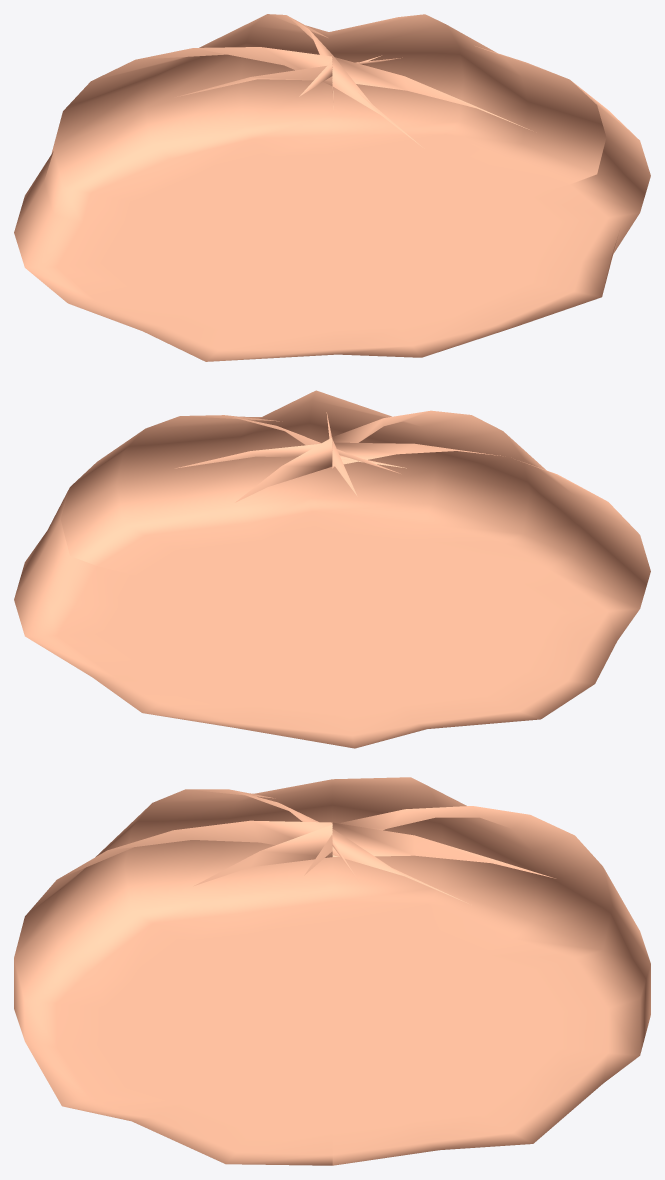
Rendered from seashell.glb.
3 renders of one model, top to bottom at view 1: azimuth 30°, elevation 25°; view 2: azimuth 150°, elevation 25°; view 3: azimuth 270°, elevation 25°, orthographic. The views are drawn at different scales.
Visible parts, largest first — view 1: SeashellProp; view 2: SeashellProp; view 3: SeashellProp.
Boxes of the visible parts, box(x1,y1,x2,y2) form: SeashellProp: box(14, 14, 650, 361); SeashellProp: box(14, 390, 650, 748); SeashellProp: box(14, 777, 650, 1165).
Size of the model in its own units: 0.6 by 0.1965 by 0.5515.
